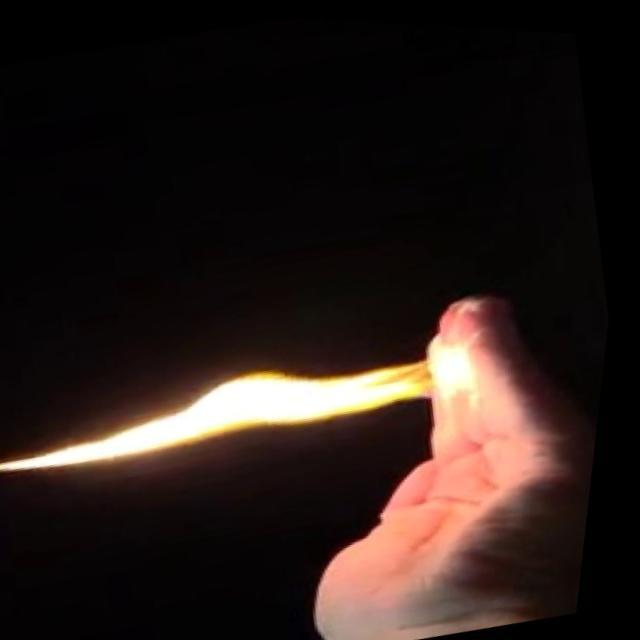fire: (115, 308, 522, 488)
